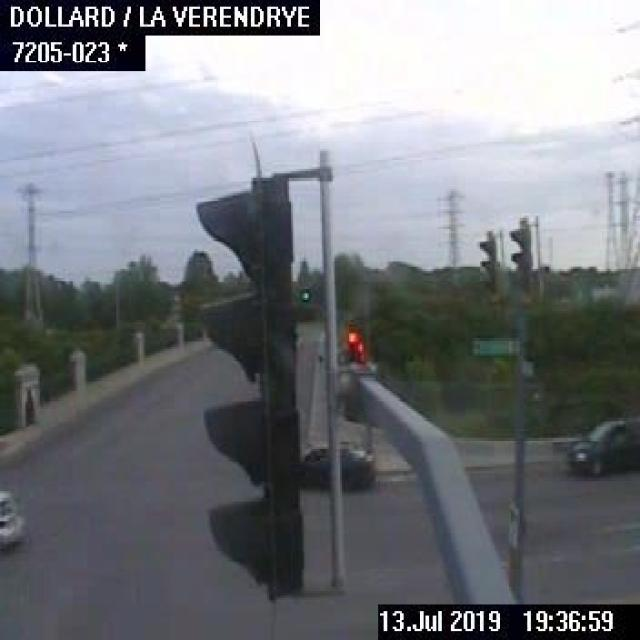vehicle: (567, 405, 638, 491), (298, 442, 380, 492), (0, 482, 29, 562)
